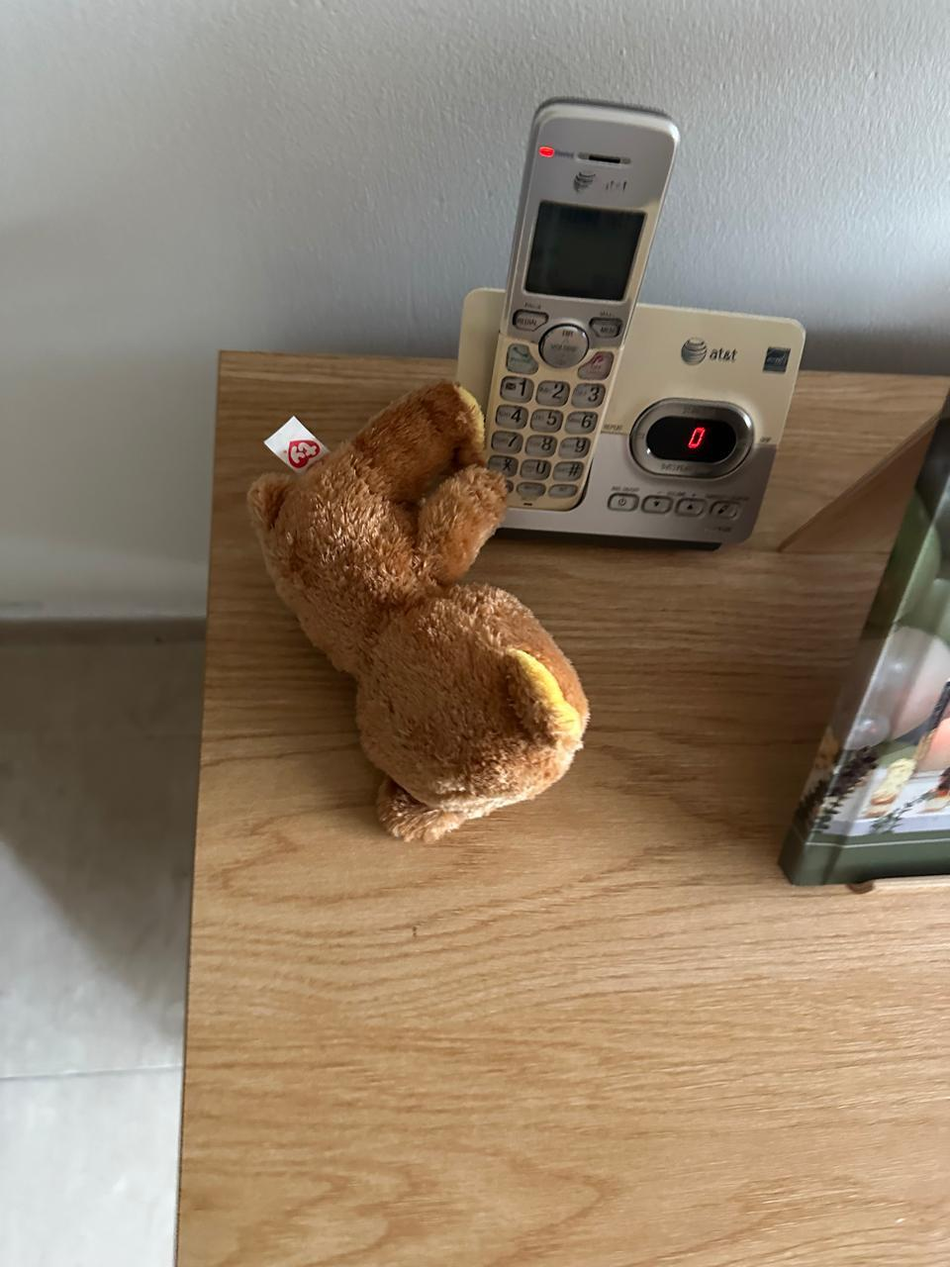peluche_sebastian: (250, 381, 594, 846)
